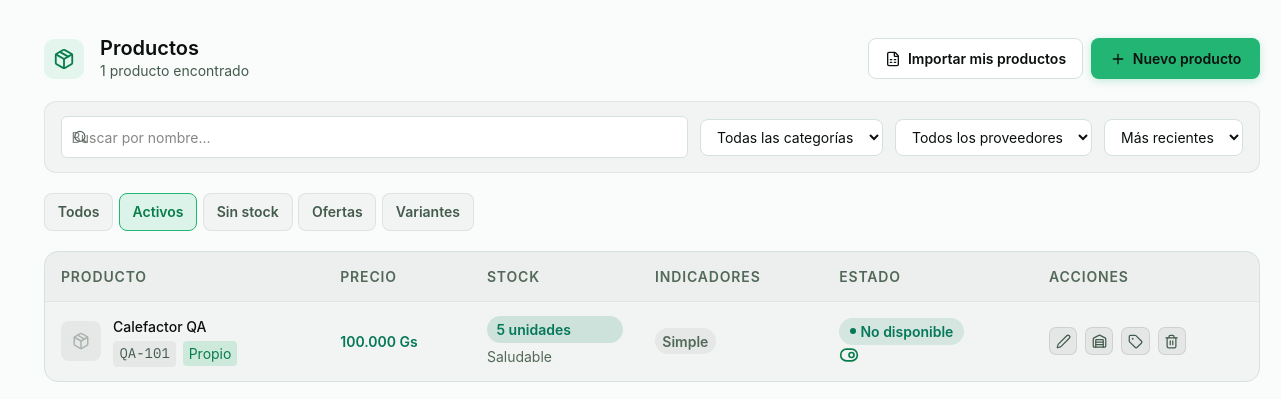
Scenario: ProductList › abre la pestaña de ofertas del producto desde el botón de etiqueta
This screenshot has width=1281, height=399.
Check: the text "Calefactor QA" is shown, box [113,316,206,337]
Click the button titled "Gestionar ofertas" at point(1135, 341), box [1121,327,1150,356]
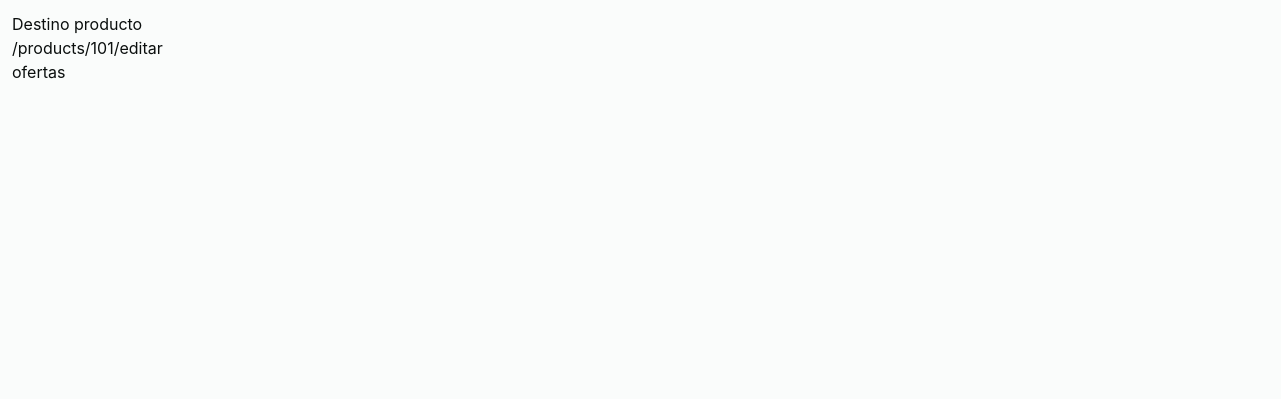
Check: the text "ofertas" is shown, box [12,62,65,82]
Check: the text "Destino producto" is shown, box [12,14,142,34]
Check: the text "/products/101/editar" is shown, box [12,38,163,58]
